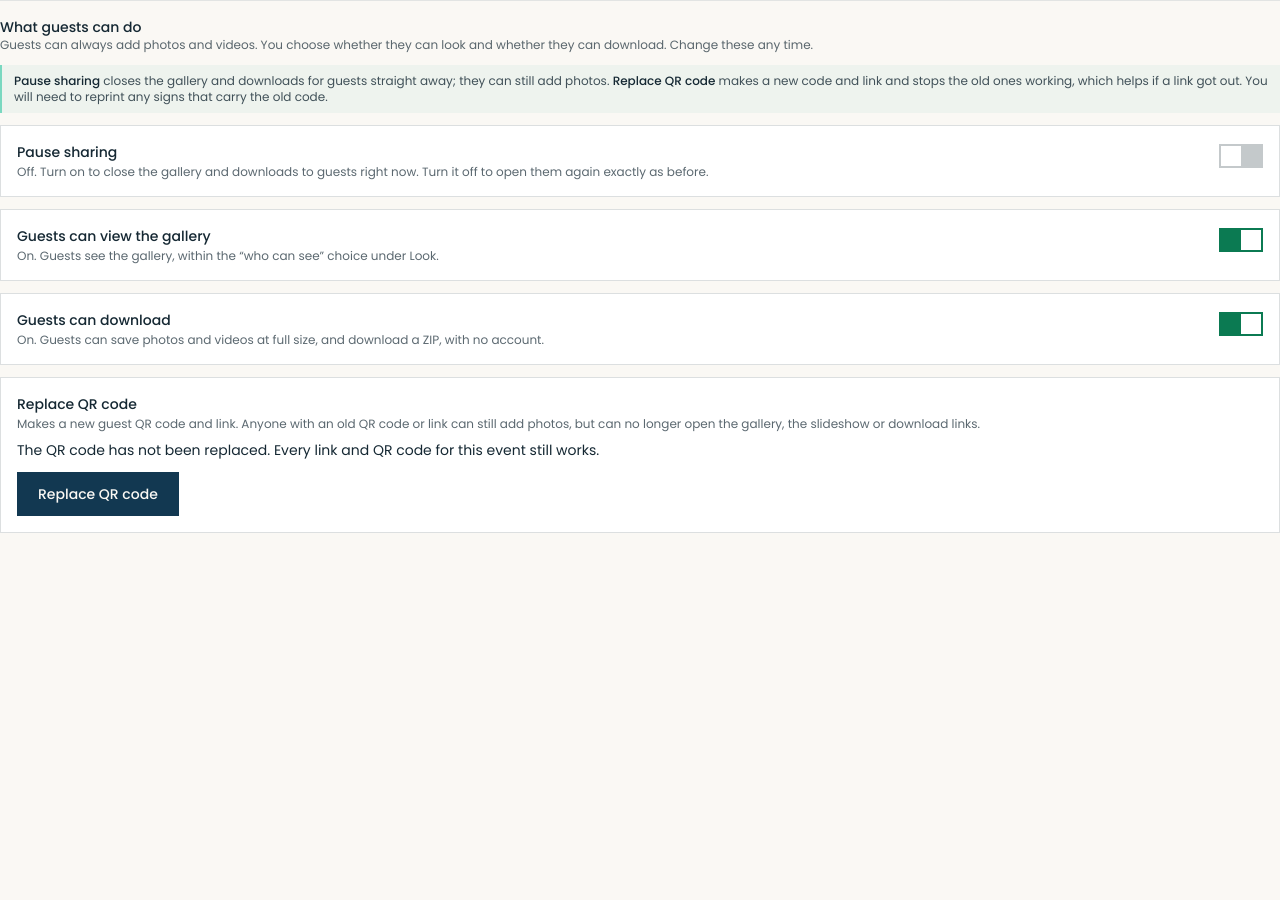
Scenario: GalleryAccessSettings › shows no new code when the replacement fails
Click the button "Replace QR code". click: (98, 494)
box: x1=17 y1=472 x2=179 y2=516
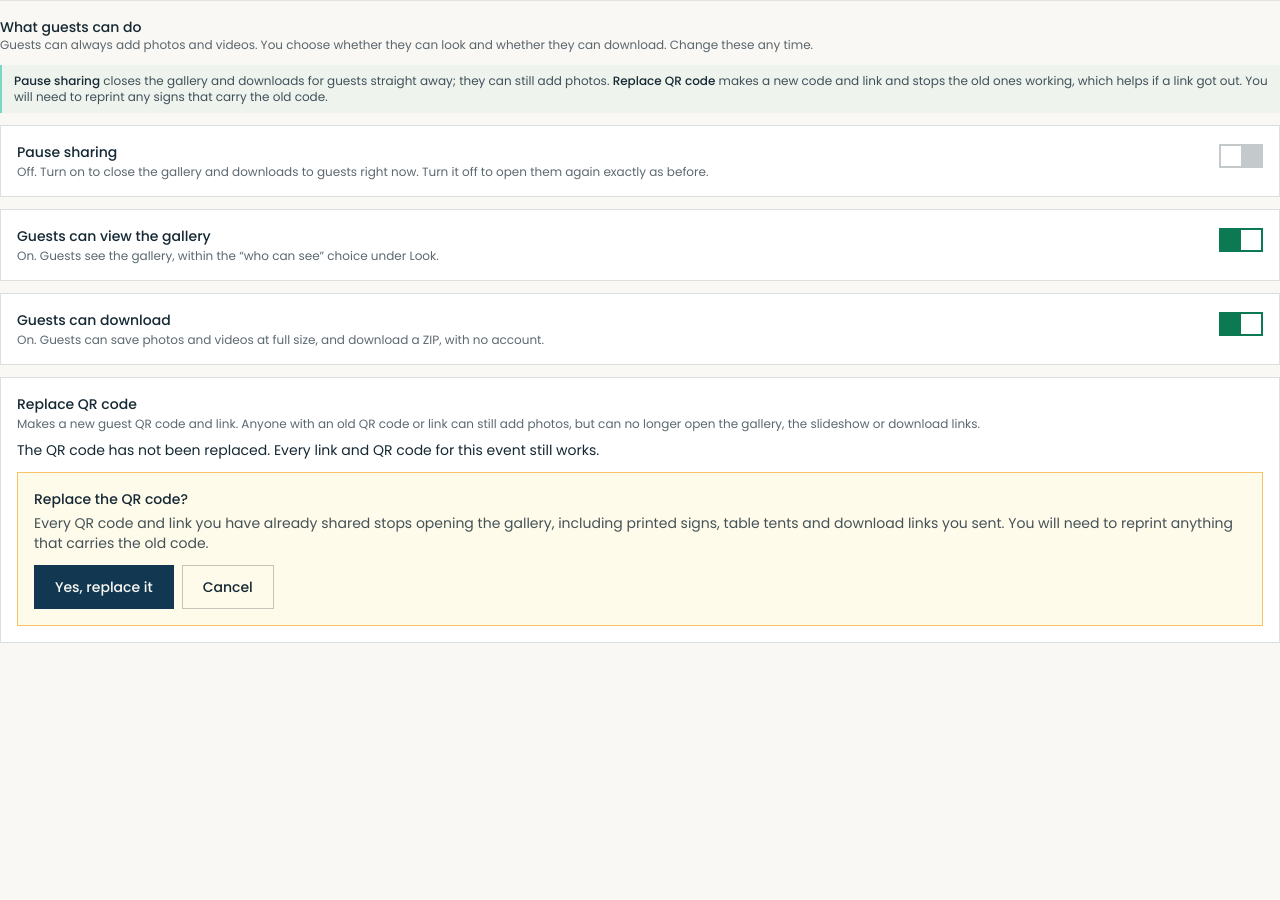
Click the button "Yes, replace it". click: (104, 587)
box: x1=34 y1=565 x2=174 y2=609
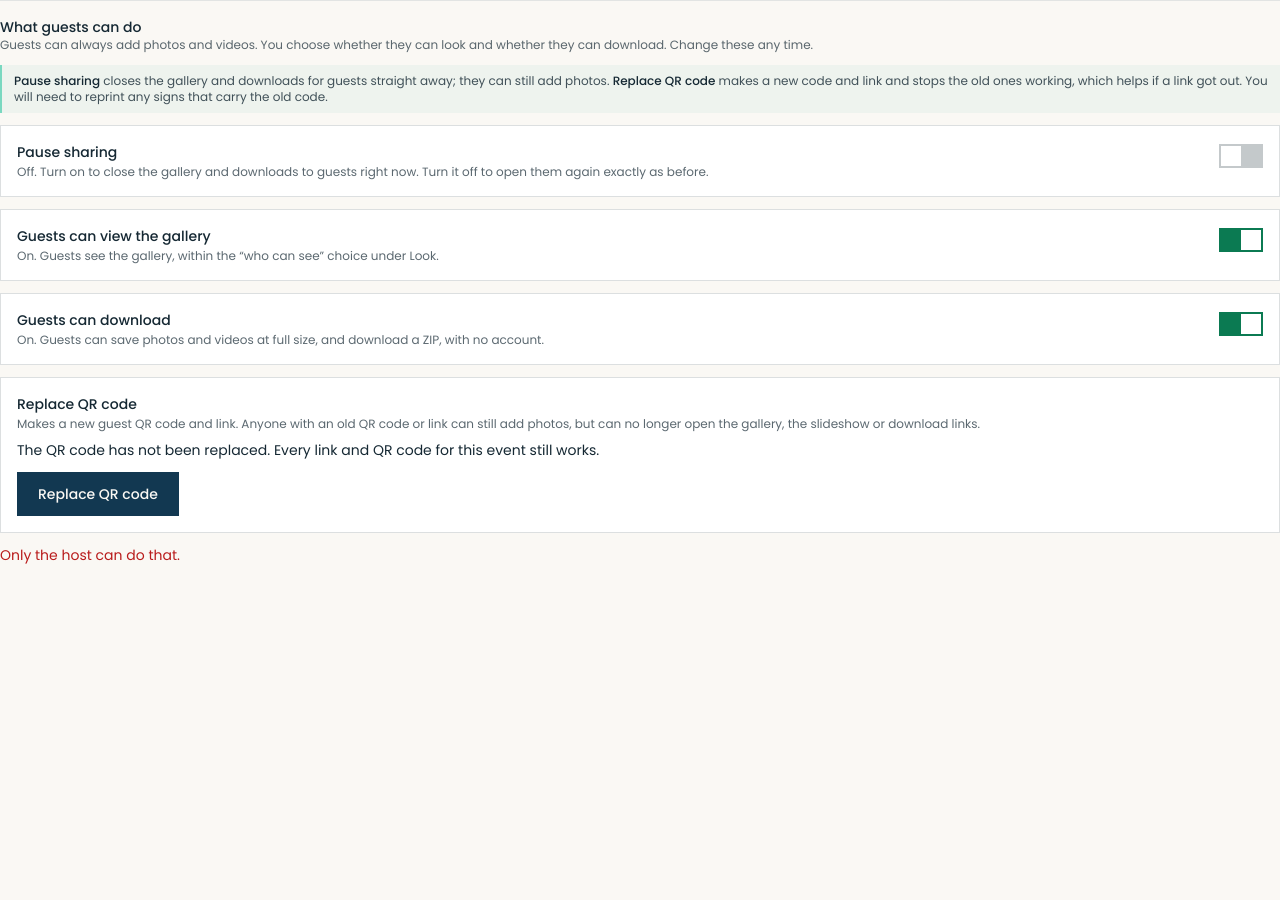
Result: the text "Only the host can do that." is shown at x1=0 y1=545 x2=180 y2=565
